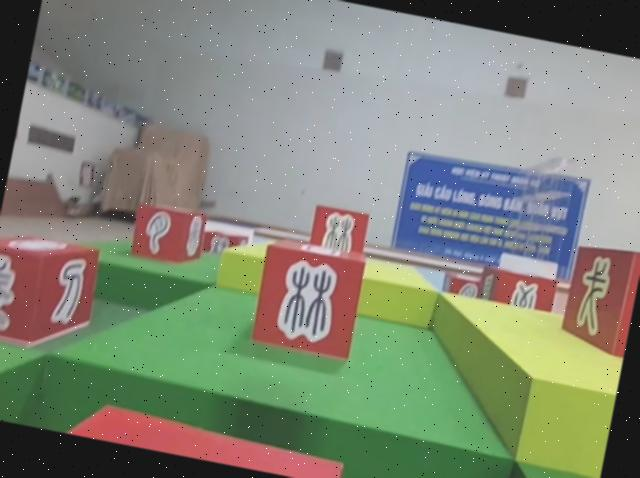R2 Fake: (247, 245, 365, 359), (0, 227, 102, 352), (553, 240, 640, 360), (125, 201, 206, 269), (305, 203, 370, 270)
